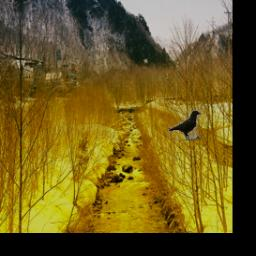Crow: (169, 110, 202, 140)
